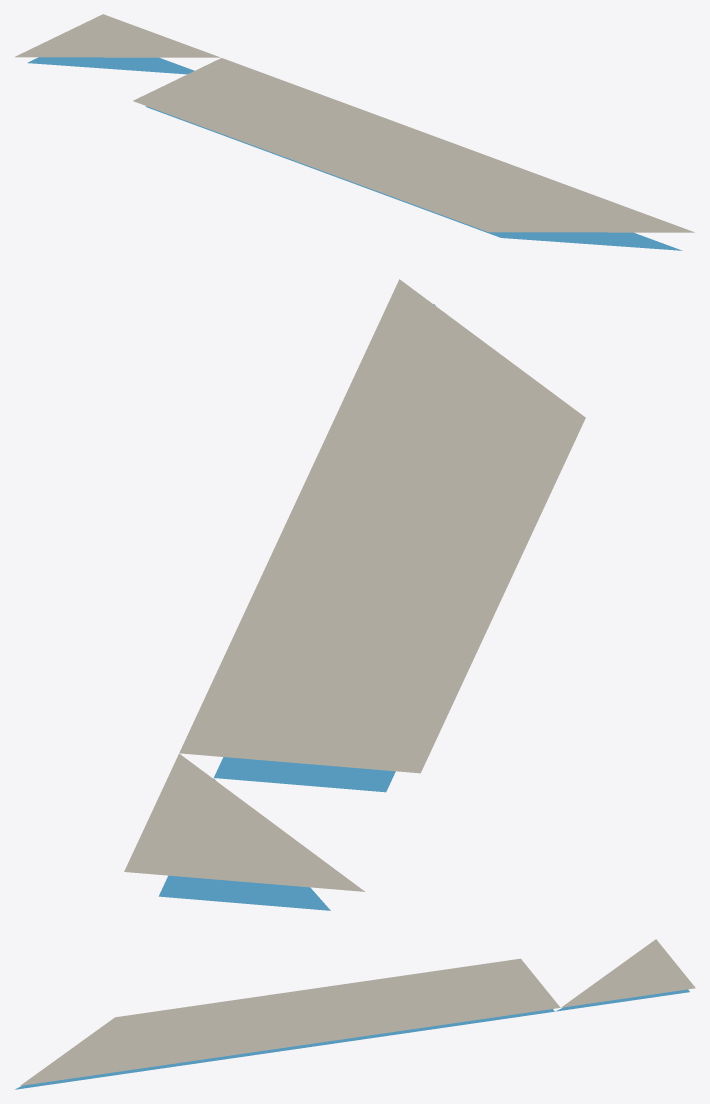
3 views of the same model, one above another, from view 1: azimuth 30°, elevation 25°; view 2: azimuth 150°, elevation 25°; view 3: azimuth 270°, elevation 25° (orthographic). The views are drawn at different scales.
Parts seen in each view (by area): view 1: estructura_terreno, estructura_agua; view 2: estructura_terreno, estructura_agua; view 3: estructura_terreno, estructura_agua.
Part boxes in pixels (x1,y1,x2,y2): estructura_terreno: (14, 14, 694, 232); estructura_agua: (27, 57, 682, 250); estructura_terreno: (124, 279, 585, 891); estructura_agua: (158, 304, 435, 910); estructura_terreno: (20, 939, 695, 1085); estructura_agua: (15, 989, 689, 1089).
Bounding box in the file's own units: 11.87 × 0.41 × 23.27.
